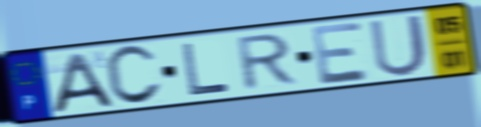A: (50, 50, 117, 115)
C: (102, 43, 165, 108)
E: (308, 19, 372, 87)
L: (178, 41, 232, 98)
R: (235, 30, 301, 93)
U: (367, 12, 431, 79)
